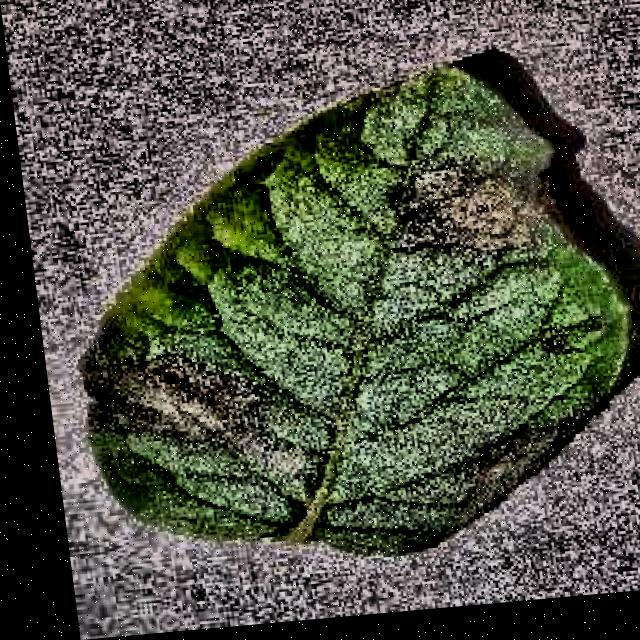Potato_leaf_late_blight: (66, 59, 634, 574)
